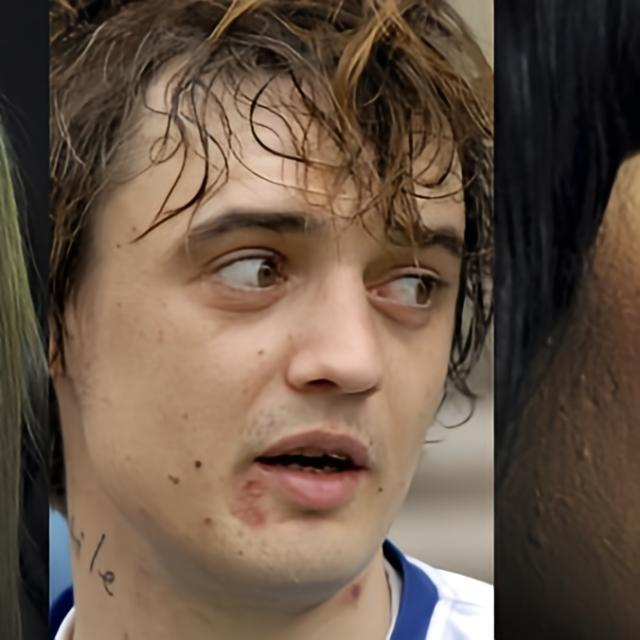fear: (64, 34, 468, 594)
